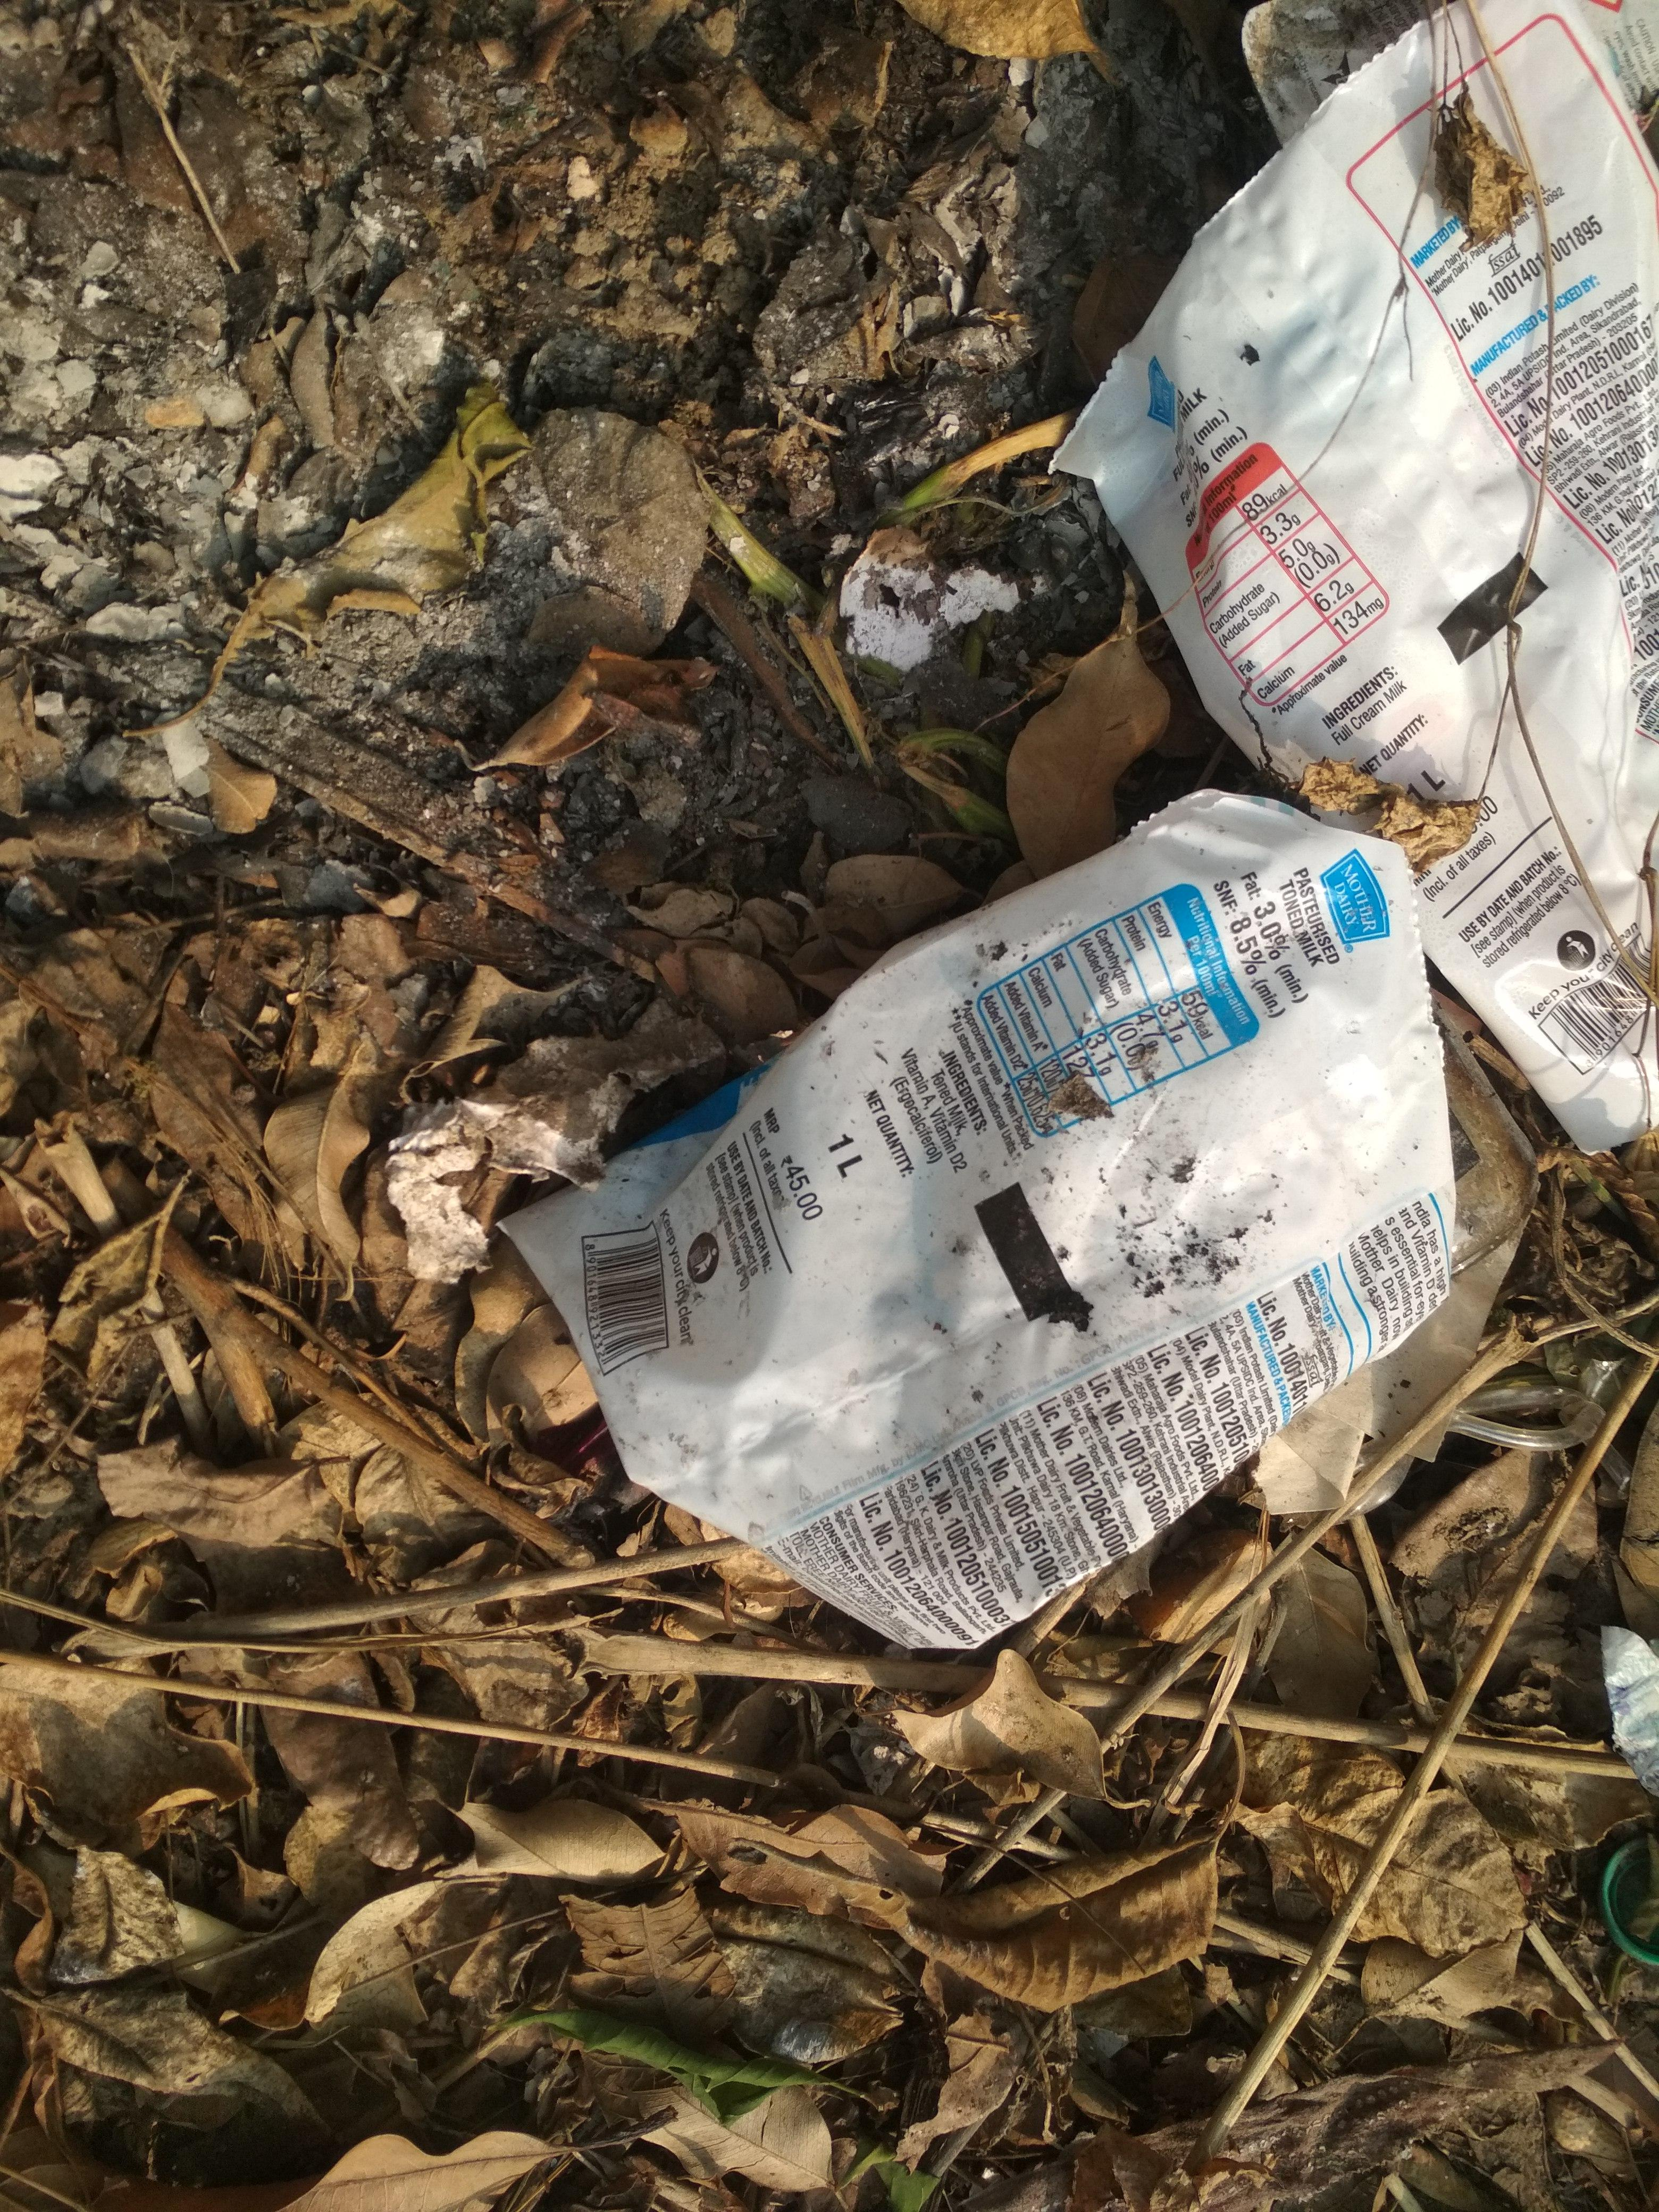trash: (472, 2, 1659, 1660)
